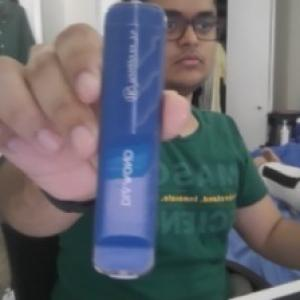Diamond-E-Ciggirate: (90, 5, 167, 282)
